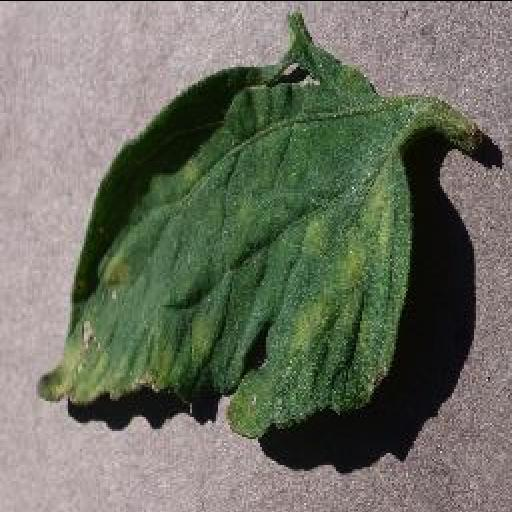disease_tomato: (36, 12, 412, 441)
